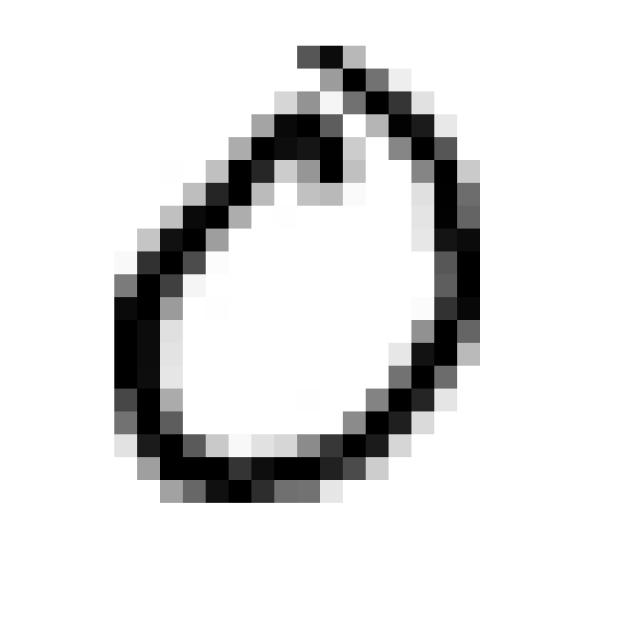5 -five-: (89, 25, 502, 519)
